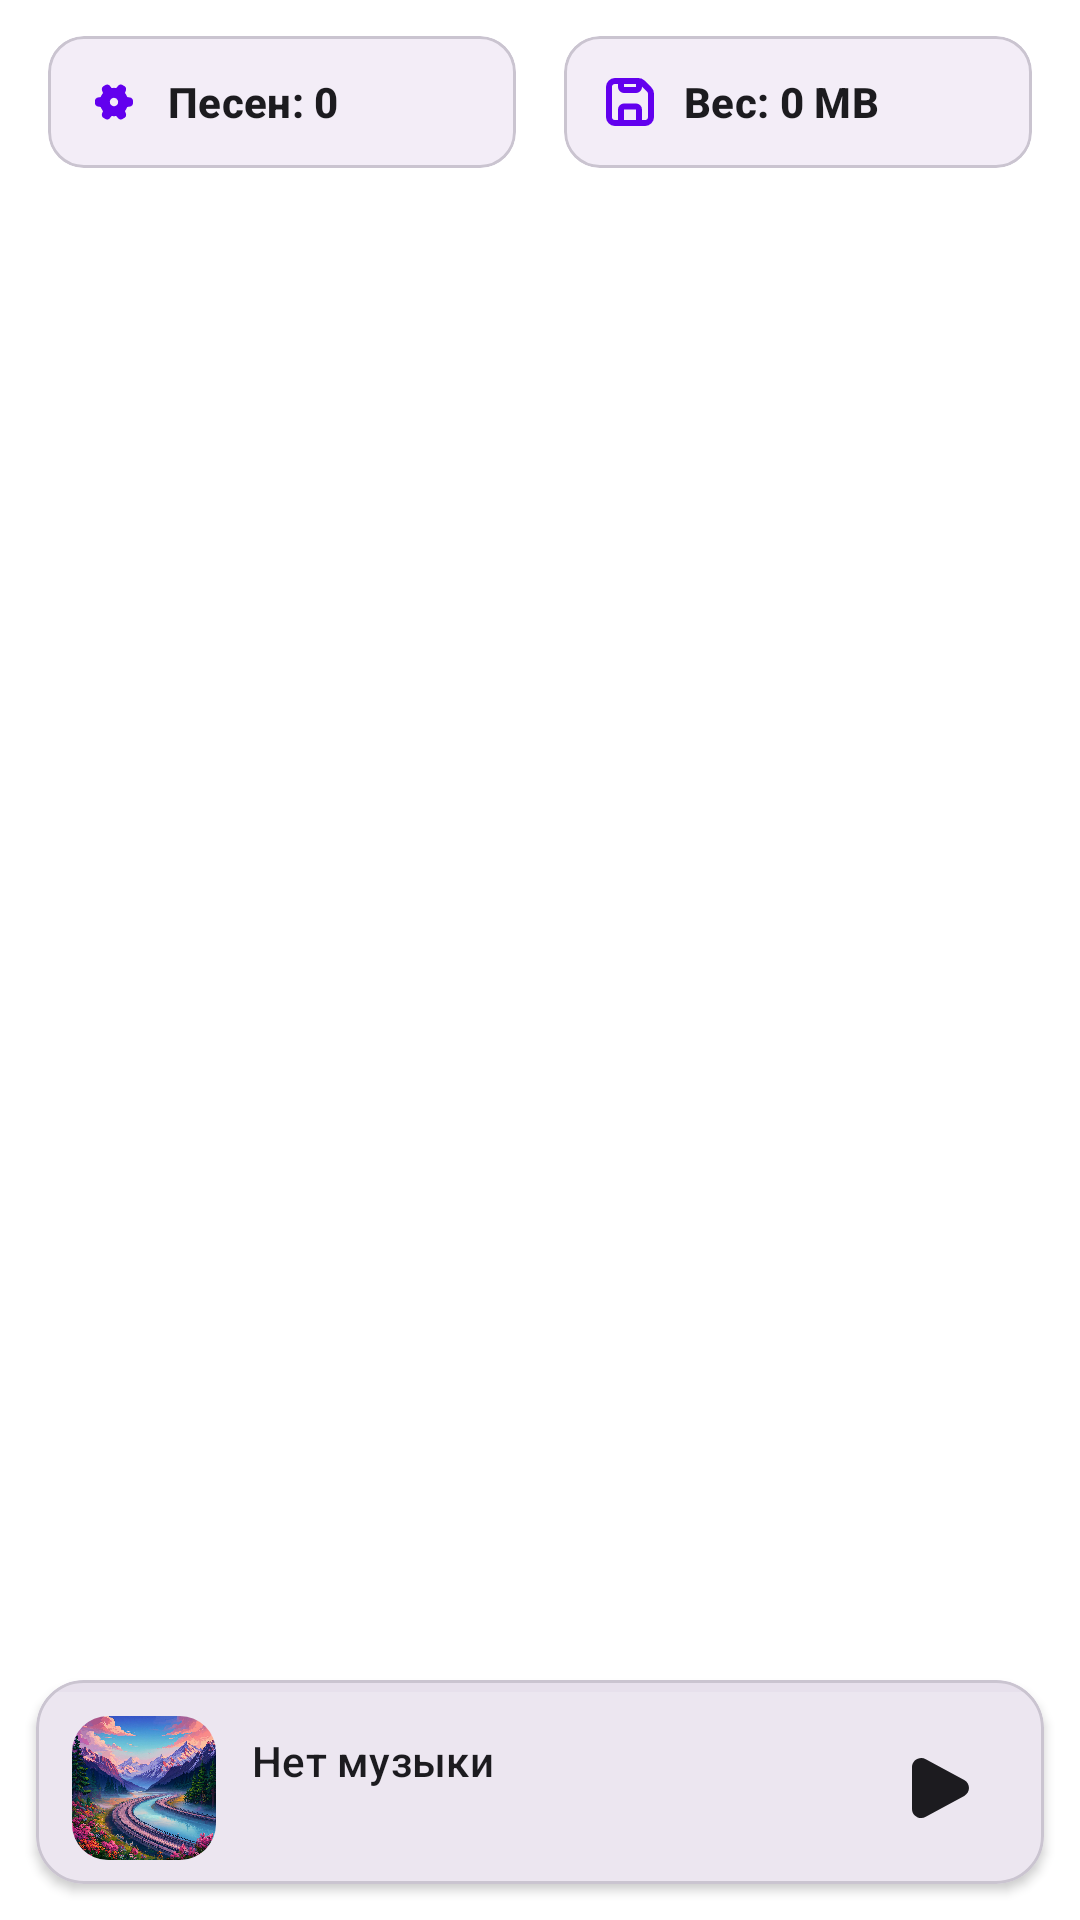

Where to tap for icons on this 1080 × 1920 app screen, as (x,y):
Play/Pause: (940,1788)
setup: (114,102)
storage: (630,102)
